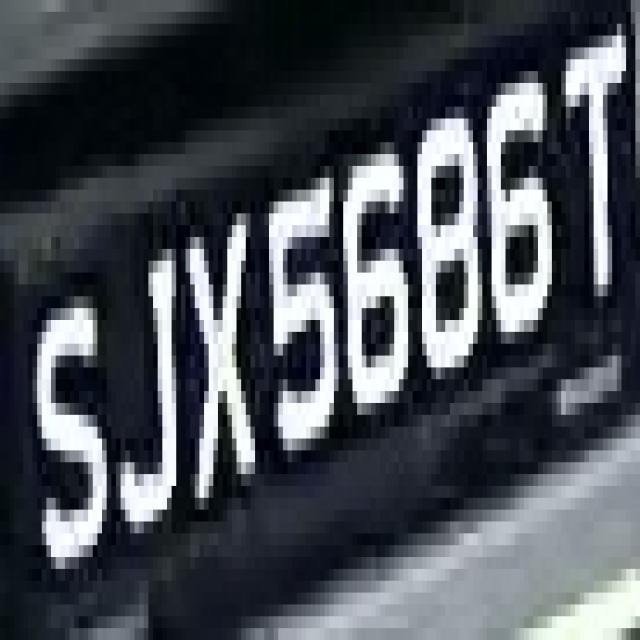5: (260, 130, 338, 438)
6: (338, 106, 412, 426), (478, 59, 556, 344)
8: (408, 107, 492, 379)
J: (102, 213, 190, 569)
S: (18, 260, 112, 580)
T: (552, 12, 631, 332)
X: (162, 178, 264, 498)
